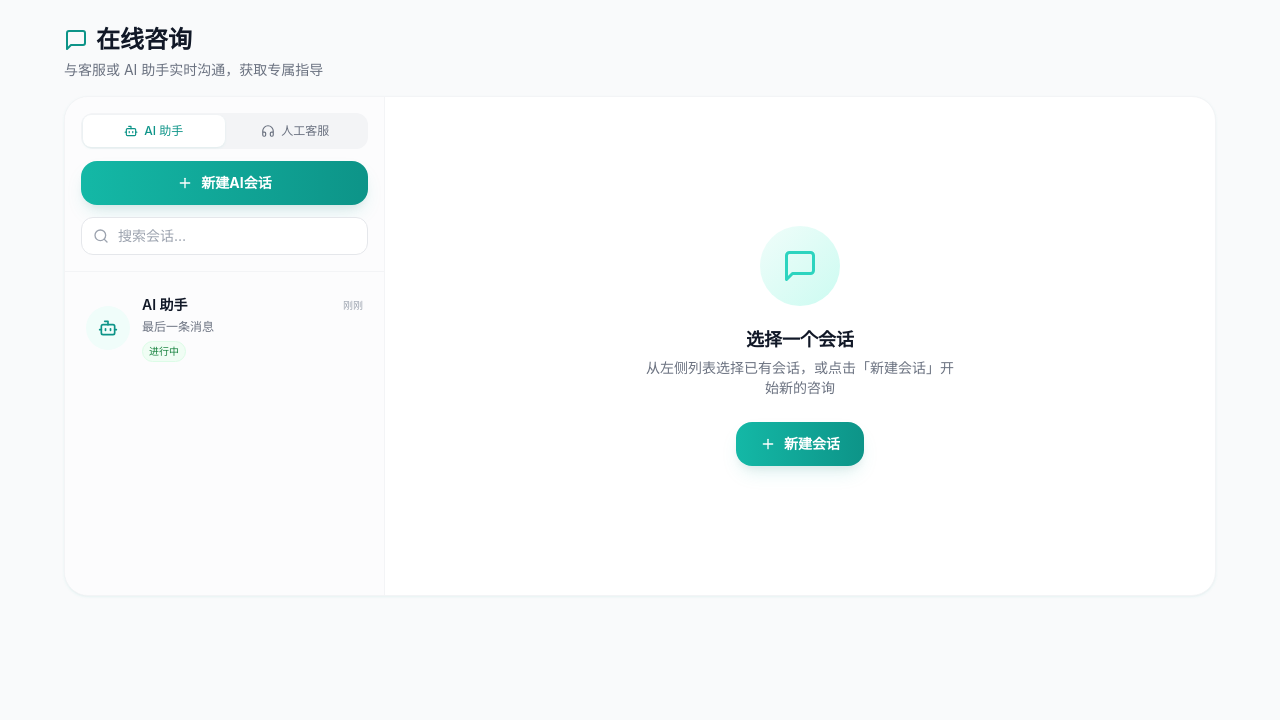
Chat 页面 › 已登录 - 会话列表 › 搜索无匹配时显示"未找到匹配的会话"
Type "不存在的关键词" into the field with placeholder "搜索会话…" at (224, 236), box [81,217,368,255]
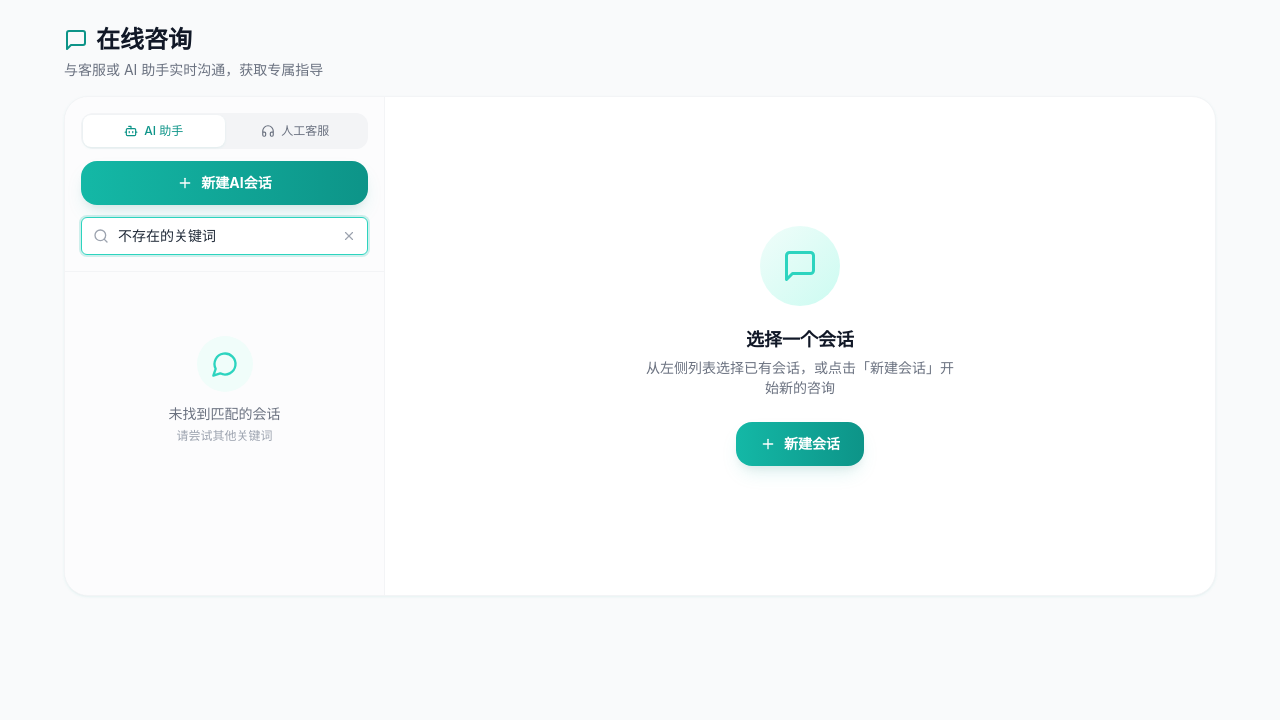
Check: the text "未找到匹配的会话" is shown, box [168,404,280,424]
